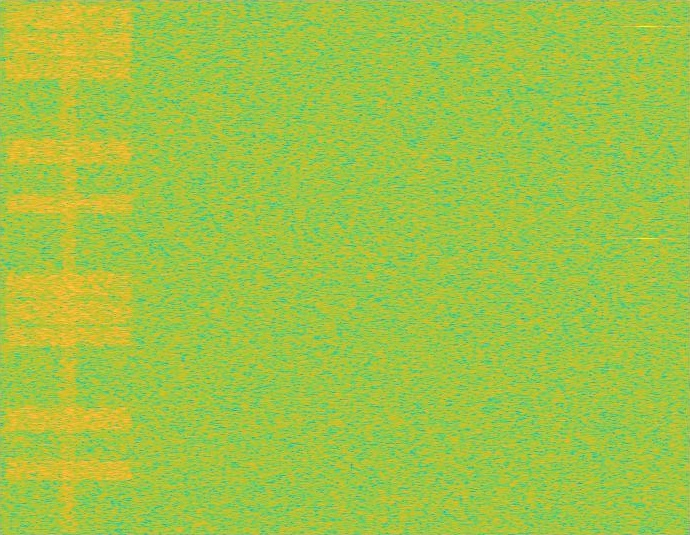DSSS: (60, 0, 78, 534)
LTE: (0, 0, 138, 534)
Radar: (639, 0, 653, 534)
